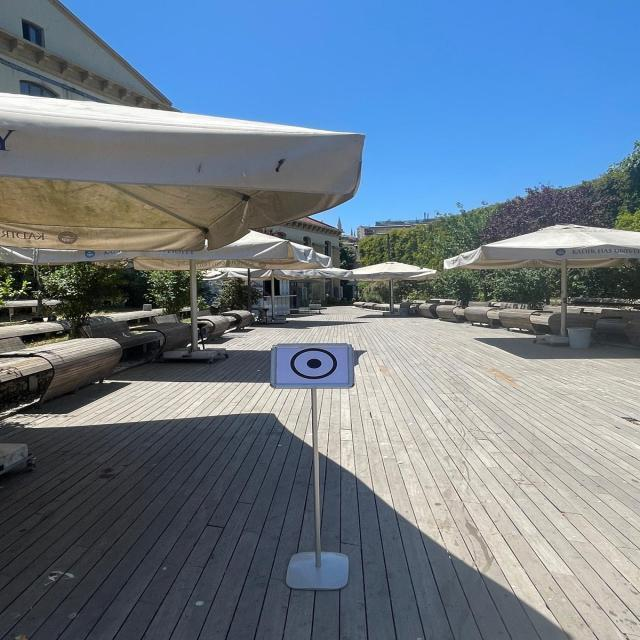Target: (262, 338, 365, 392)
inner: (304, 357, 325, 371)
